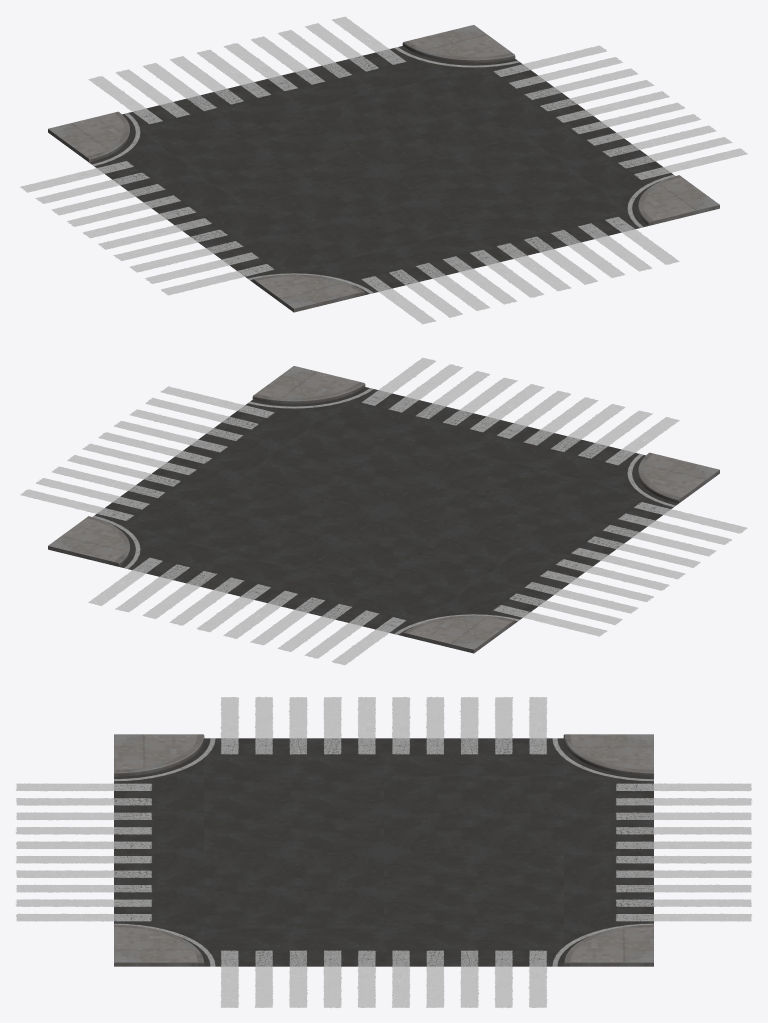
The model's file is Street_4WayIntersection.gltf.
3 renders of one model, top to bottom at view 1: azimuth 30°, elevation 25°; view 2: azimuth 150°, elevation 25°; view 3: azimuth 270°, elevation 25°, orthographic. The views are drawn at different scales.
Parts seen in each view (by area): view 1: Street_4WayIntersection; view 2: Street_4WayIntersection; view 3: Street_4WayIntersection.
Boxes of the visible parts, x1,y1,x2,y2 form: Street_4WayIntersection: (20, 16, 747, 324); Street_4WayIntersection: (20, 358, 747, 664); Street_4WayIntersection: (16, 697, 751, 1007).
Bounding box in the file's own units: 24.67 × 0.15 × 24.67.
Materials: 3 (3 with a texture image).
